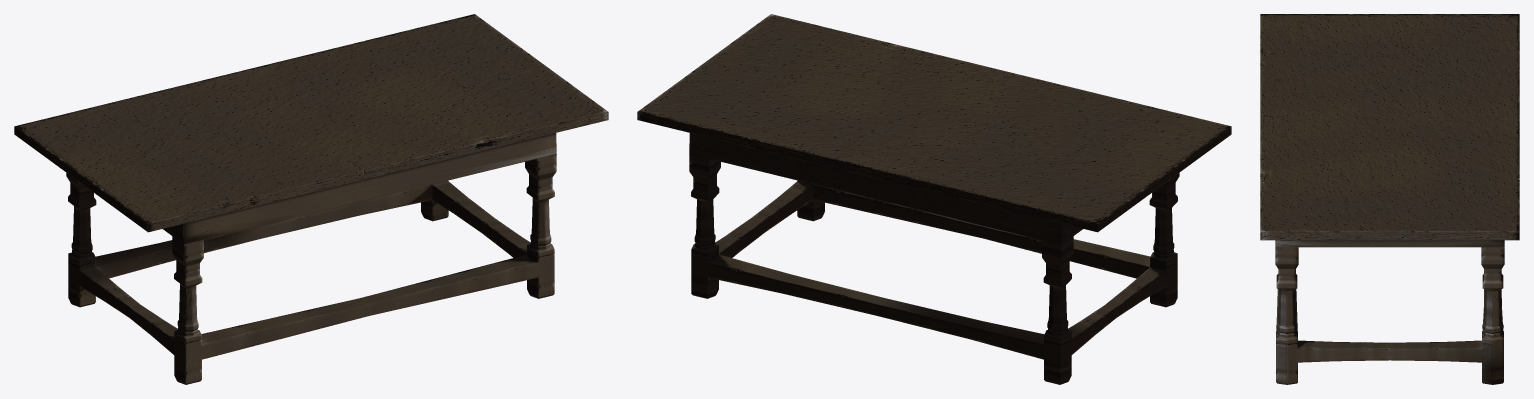
The model's file is oldtable4.fbx.
The picture shows the model from 3 angles, left to right: view 1: azimuth 30°, elevation 25°; view 2: azimuth 150°, elevation 25°; view 3: azimuth 270°, elevation 25°; orthographic projection. The views are drawn at different scales.
Parts seen in each view (by area): view 1: oldtablefbx; view 2: oldtablefbx; view 3: oldtablefbx.
Boxes of the visible parts, x1,y1,x2,y2 form: oldtablefbx: (14,14,608,384); oldtablefbx: (637,14,1231,384); oldtablefbx: (1260,14,1519,384).
Size of the model in its own units: 200 by 74.14 by 101.
Materials: 1 (1 with a texture image).
